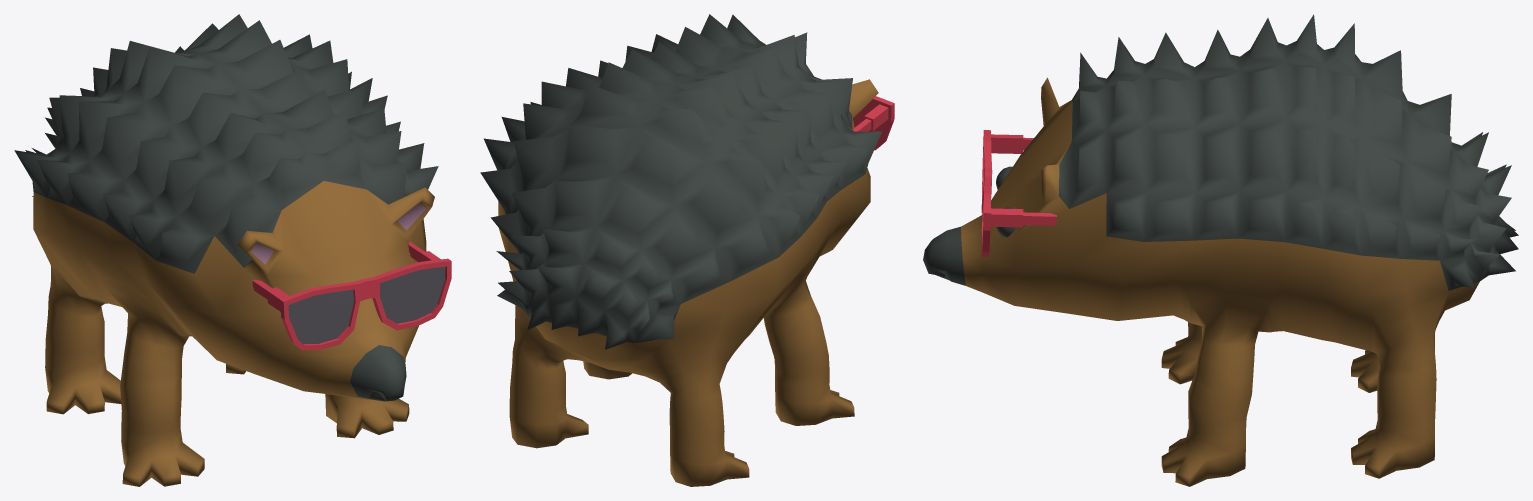
Rendered from Oriço_ThiagoGedeon1.fbx.
3 views of the same model, side by side, from view 1: azimuth 30°, elevation 25°; view 2: azimuth 150°, elevation 25°; view 3: azimuth 270°, elevation 25° (orthographic). The views are drawn at different scales.
Visible parts, largest first — view 1: Oriço; view 2: Oriço; view 3: Oriço.
Part boxes in pixels (x1=…): Oriço: x1=14, y1=14, x2=451, y2=486; Oriço: x1=480, y1=14, x2=894, y2=486; Oriço: x1=923, y1=14, x2=1518, y2=486.
Size of the model in its own units: 89.44 by 94.77 by 136.
